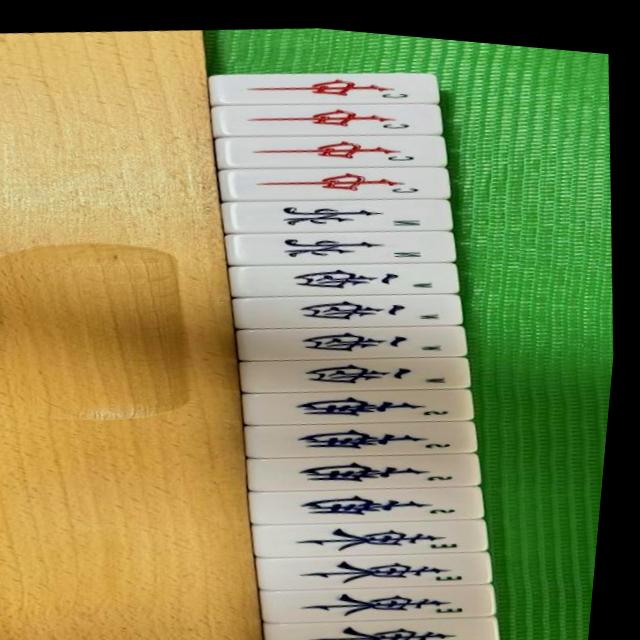hdr: (216, 49, 438, 112), (233, 145, 447, 208), (228, 81, 436, 142), (239, 114, 440, 173)
hwe: (279, 499, 483, 561), (292, 564, 496, 625), (292, 532, 487, 593), (285, 595, 509, 640)
hwn: (233, 175, 451, 241), (241, 209, 449, 269)
hws: (260, 368, 464, 430), (262, 434, 471, 494), (273, 467, 478, 528), (265, 401, 470, 461)
hww: (245, 240, 455, 301), (261, 303, 467, 365), (254, 273, 462, 333), (262, 335, 466, 396)
